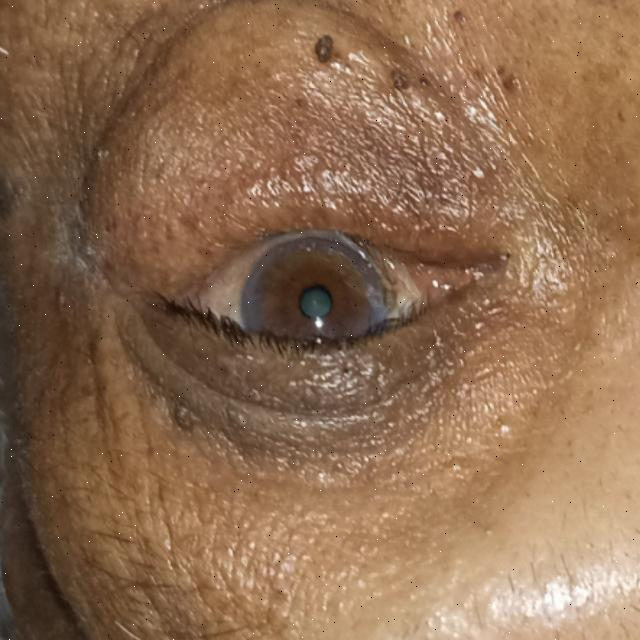Cataract: (244, 230, 390, 384)
